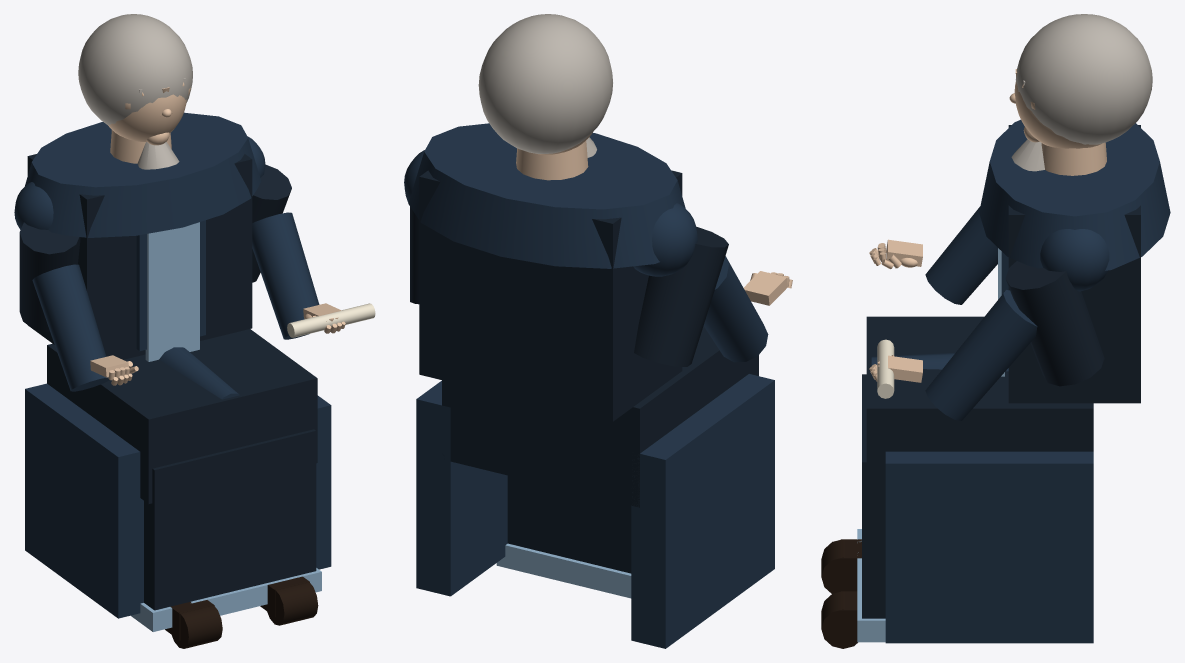
File: adv_scholar.glb
3 views of the same model, side by side, from view 1: azimuth 30°, elevation 25°; view 2: azimuth 150°, elevation 25°; view 3: azimuth 270°, elevation 25° (orthographic). The views are drawn at different scales.
Parts seen in each view (by area): view 1: LowerBodyRobes, TorsoAssembly, HeadAssembly, RightArmAssembly, Cranium, LeftHand, RightHand; view 2: TorsoAssembly, LowerBodyRobes, HeadAssembly, RightArmAssembly, LeftHand; view 3: LowerBodyRobes, TorsoAssembly, RightArmAssembly, HeadAssembly, LeftHand, Cranium, RightHand.
Boxes of the visible parts, x1=… form: LowerBodyRobes: x1=25, y1=329, x2=331, y2=648; TorsoAssembly: x1=14, y1=112, x2=261, y2=391; HeadAssembly: x1=78, y1=14, x2=192, y2=169; RightArmAssembly: x1=247, y1=136, x2=375, y2=339; Cranium: x1=107, y1=94, x2=186, y2=141; LeftHand: x1=90, y1=355, x2=138, y2=385; RightHand: x1=303, y1=303, x2=345, y2=333; TorsoAssembly: x1=408, y1=123, x2=768, y2=421; LowerBodyRobes: x1=416, y1=326, x2=774, y2=648; HeadAssembly: x1=478, y1=14, x2=612, y2=157; RightArmAssembly: x1=404, y1=150, x2=424, y2=304; LeftHand: x1=743, y1=271, x2=792, y2=305; LowerBodyRobes: x1=821, y1=316, x2=1093, y2=648; TorsoAssembly: x1=925, y1=119, x2=1170, y2=403; RightArmAssembly: x1=877, y1=229, x2=1109, y2=420; HeadAssembly: x1=1009, y1=14, x2=1152, y2=171; LeftHand: x1=869, y1=239, x2=922, y2=269; Cranium: x1=1014, y1=82, x2=1101, y2=148; RightHand: x1=869, y1=355, x2=922, y2=382.
Bounding box in the file's own units: 0.7606 × 1.39 × 0.7385.
